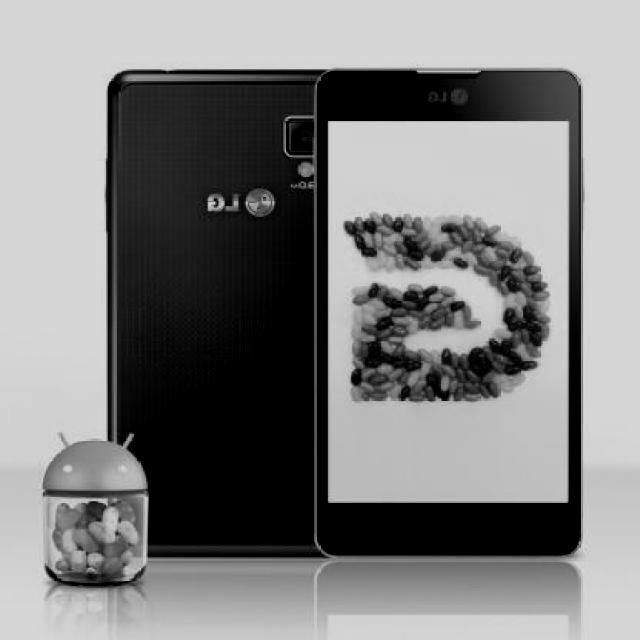fake: (312, 64, 586, 560), (111, 59, 360, 552)
